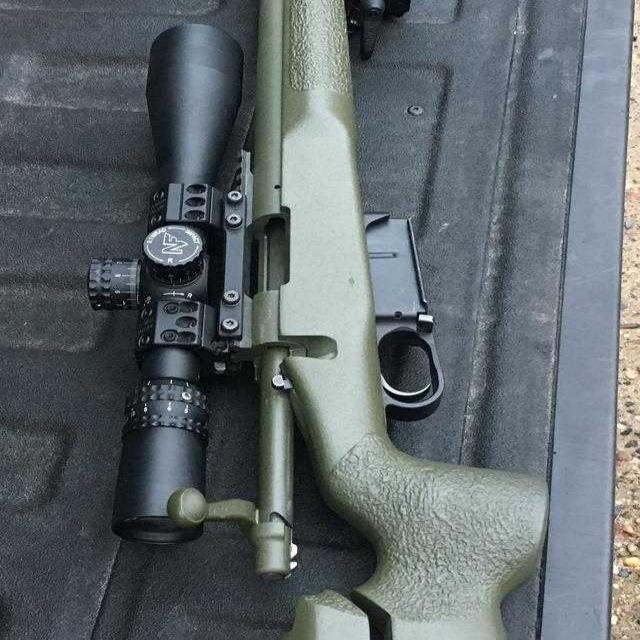weapon: (127, 0, 563, 640)
